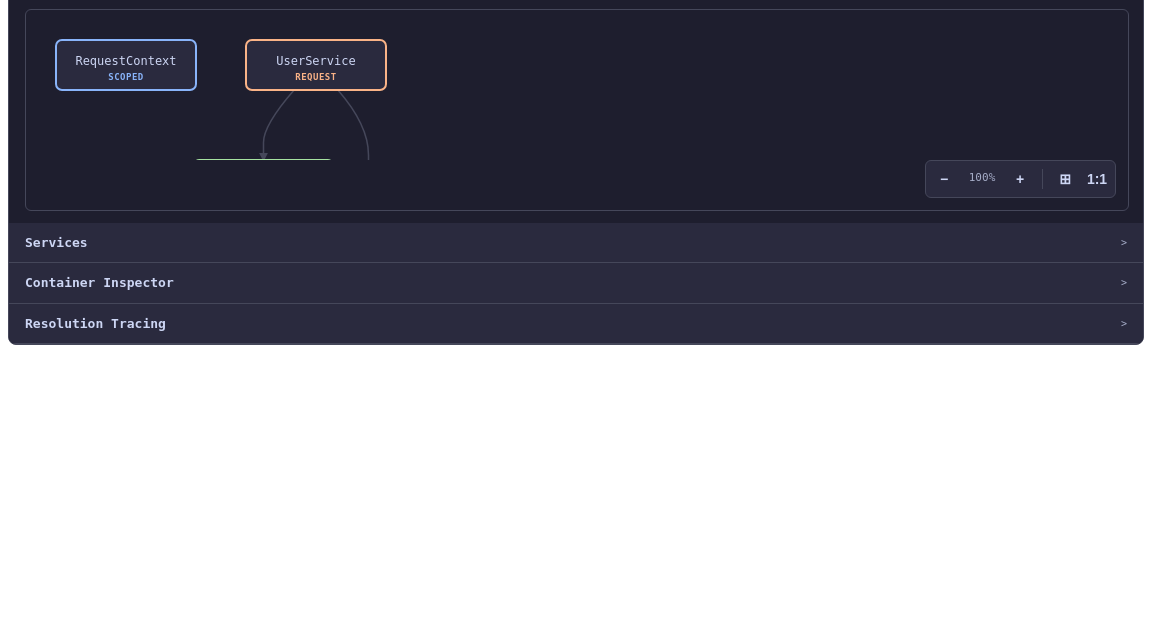
Scenario: ContainerInspector › ResolvedServices displays services with status indicators
Click the button with test id "container-inspector-header" at {"x": 99, "y": 282}, box 9,263 -> 1143,304
(page scrolled)
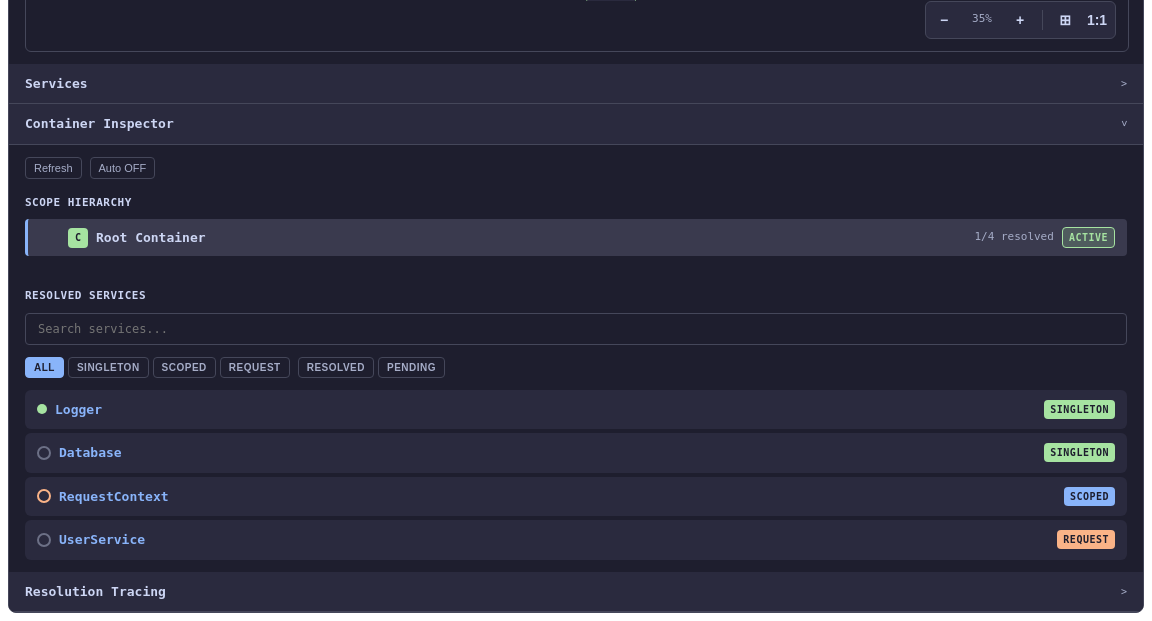
Result: the element with test id "service-item-Logger" is shown at 25,390 -> 1127,429
Result: the element with test id "service-item-Database" is shown at 25,433 -> 1127,472
